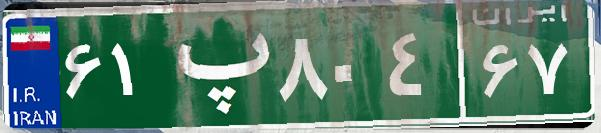0: (330, 28, 385, 110)
1: (110, 28, 158, 105)
4: (385, 28, 445, 110)
6: (57, 26, 110, 107), (475, 38, 525, 113)
7: (525, 38, 570, 115)
8: (273, 28, 330, 110)
پ: (158, 15, 273, 115)
